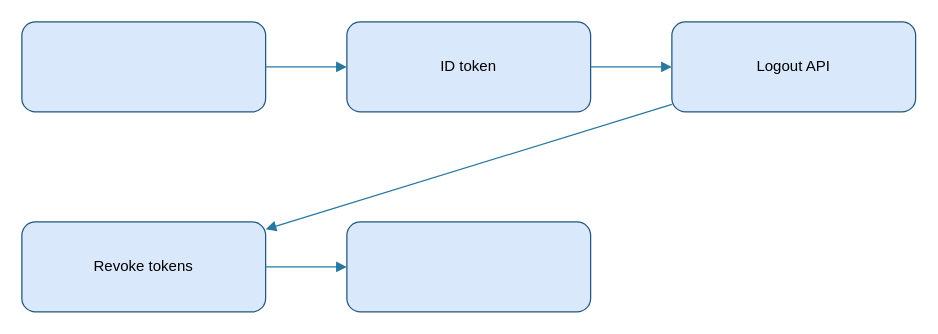
The diagram is 938 pixels wide and 334 high, and some of its shapes have lost their labels. The box of each missing label's shape, as (x1, y1, x2, y2) in pixels:
App cookie: (346, 221, 591, 312)
Relying party: (21, 21, 266, 112)
